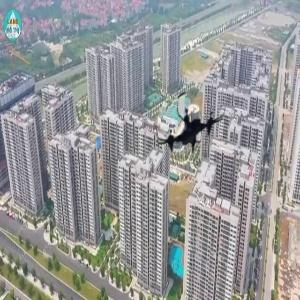drone: (154, 84, 230, 160)
